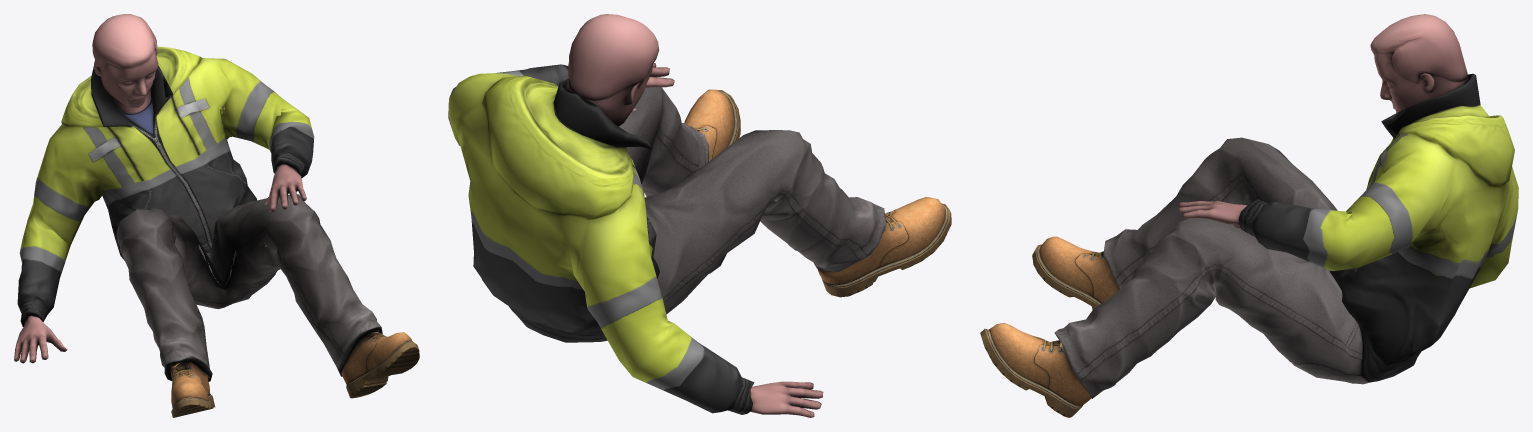
Rendered from rescue_randy.dae.
The picture shows the model from 3 angles, left to right: view 1: azimuth 30°, elevation 25°; view 2: azimuth 150°, elevation 25°; view 3: azimuth 270°, elevation 25°; orthographic projection. The views are drawn at different scales.
Visible parts, largest first — view 1: RescueRandy_Sitting; view 2: RescueRandy_Sitting; view 3: RescueRandy_Sitting.
Boxes of the visible parts, bbox=[...] form: RescueRandy_Sitting: bbox=[14, 14, 419, 417]; RescueRandy_Sitting: bbox=[448, 14, 951, 417]; RescueRandy_Sitting: bbox=[980, 14, 1518, 417].
Bounding box in the file's own units: 7472 × 10184 × 7299.
1 material, 1 textured.
